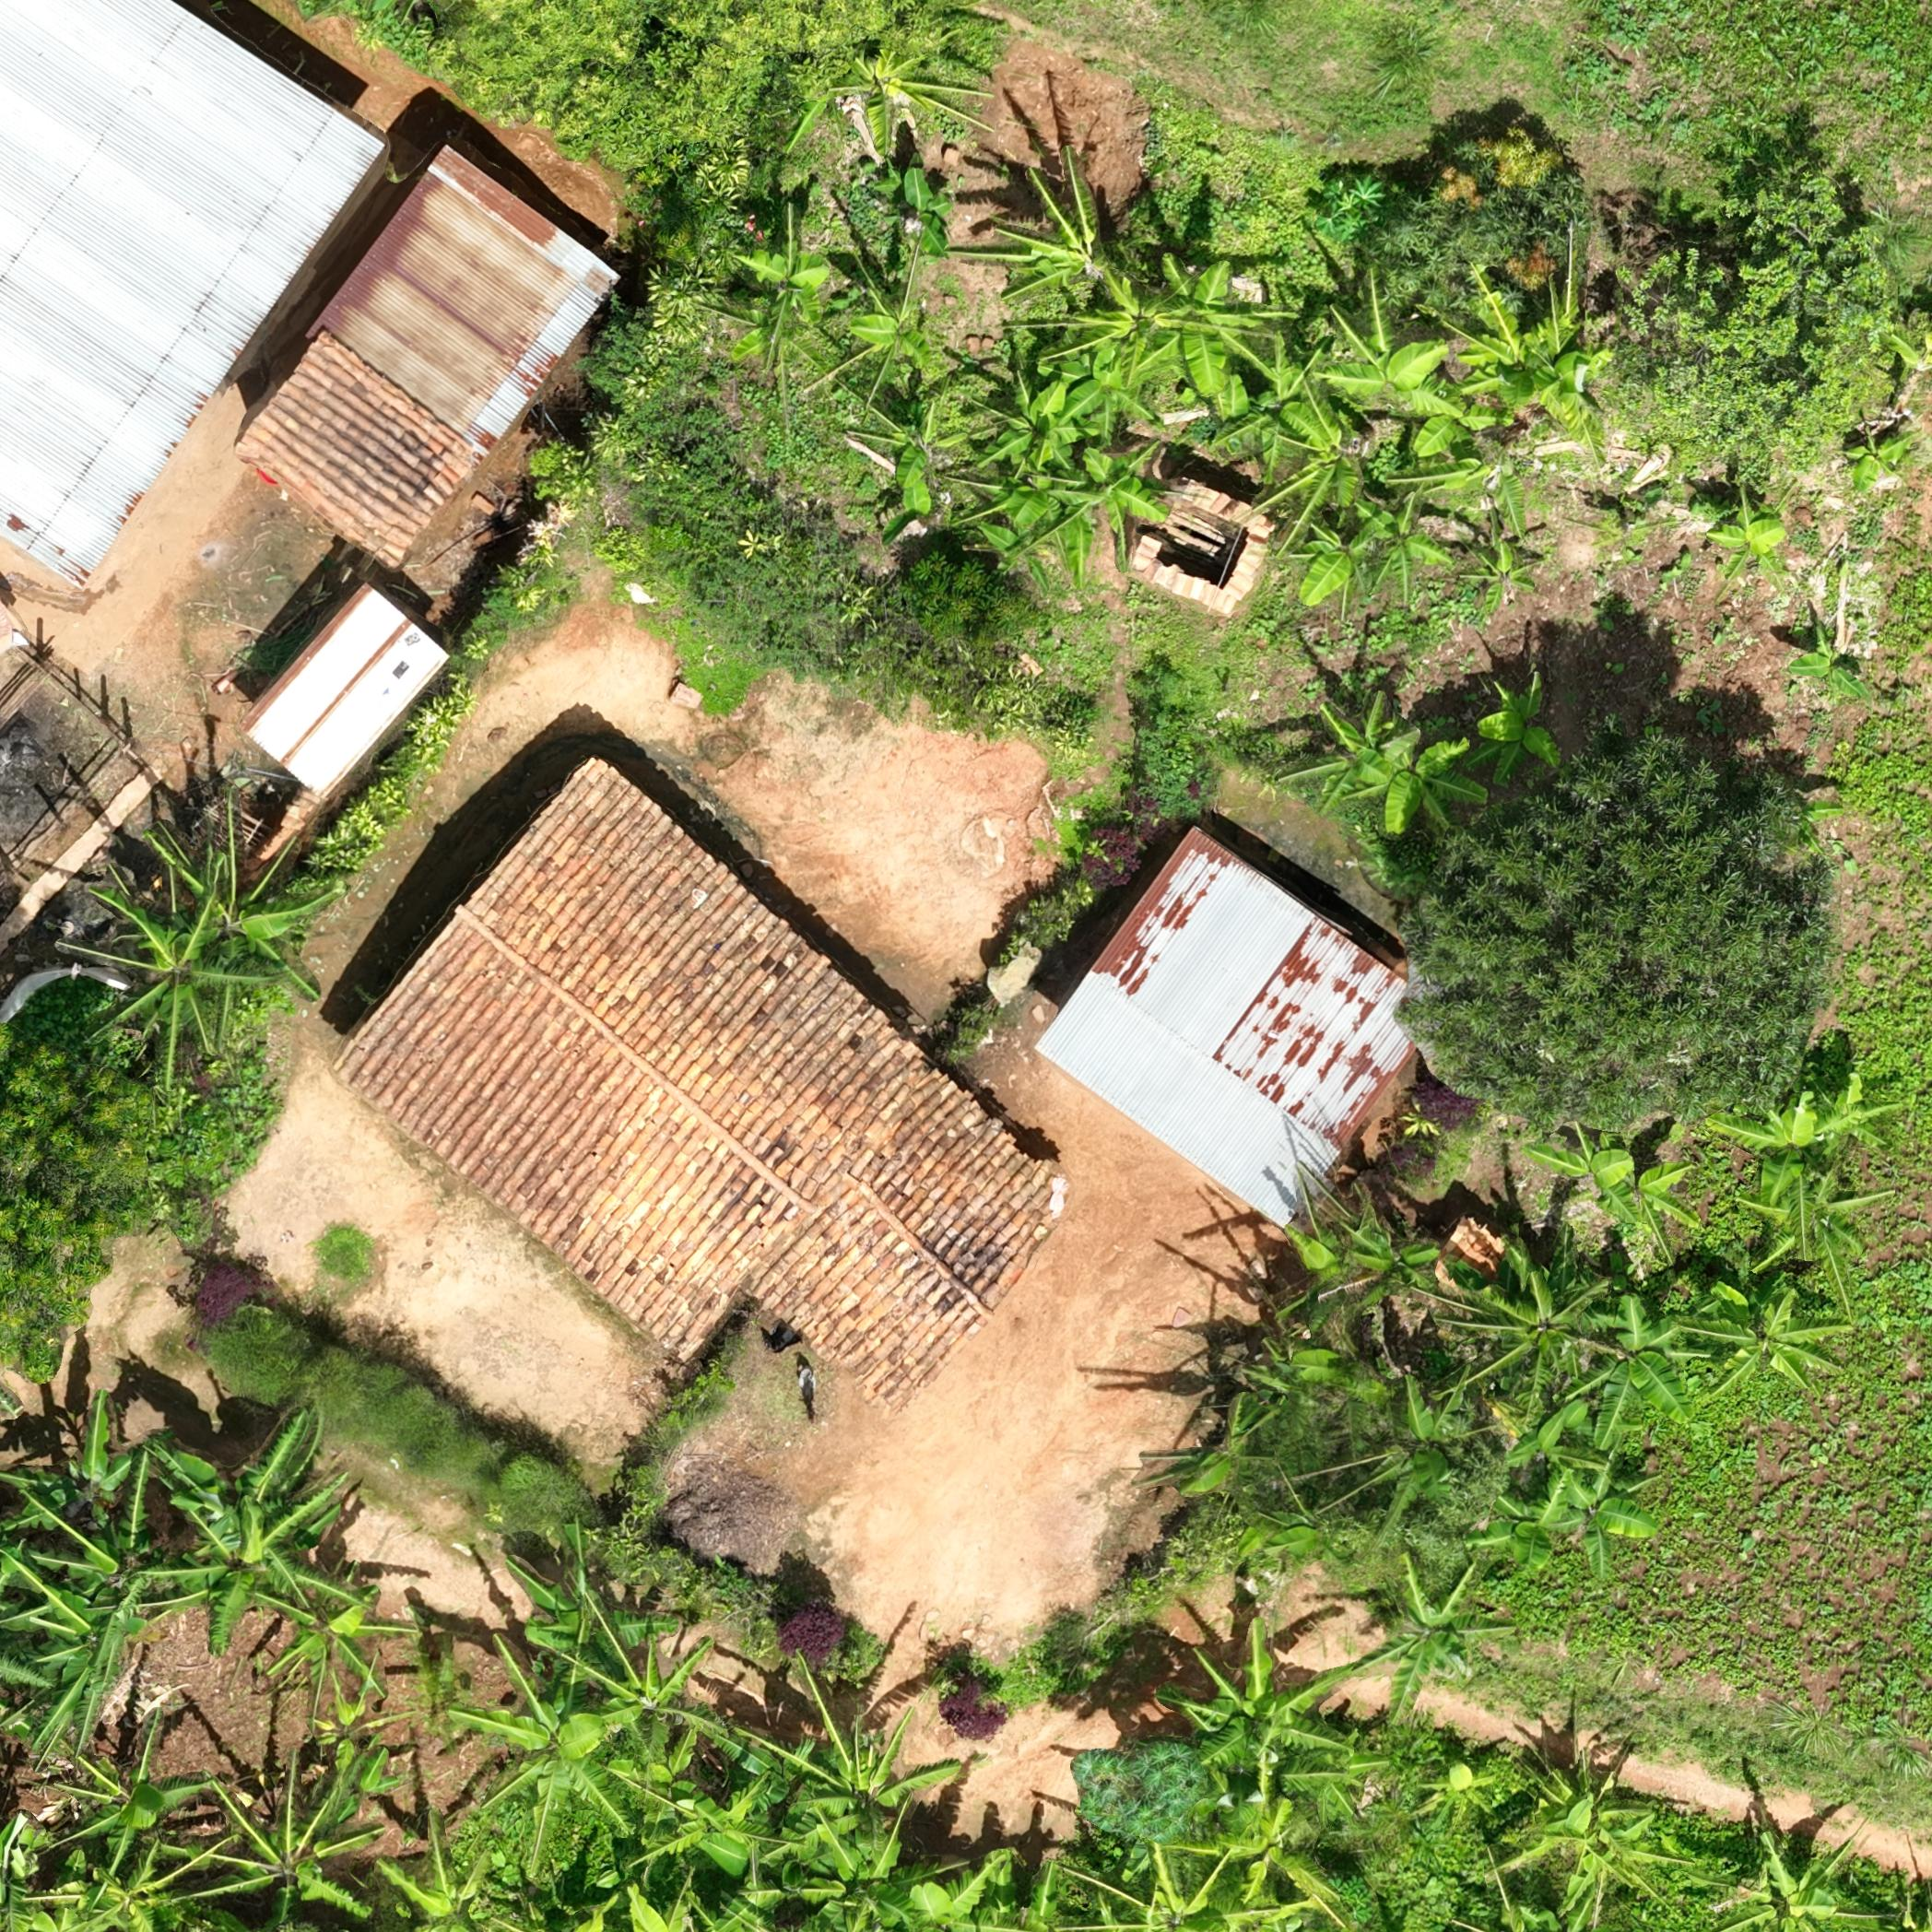Banana: (74, 870, 274, 1088), (462, 1635, 635, 1874), (156, 794, 324, 1017), (1166, 1617, 1380, 1785), (791, 1649, 962, 1821), (1460, 267, 1606, 453), (1468, 1246, 1610, 1415), (165, 1500, 318, 1654), (1323, 248, 1456, 425), (1380, 1548, 1513, 1718), (163, 1417, 370, 1525), (805, 25, 970, 150), (1364, 1355, 1470, 1532), (1743, 1185, 1881, 1316), (1585, 1300, 1695, 1451), (623, 1775, 768, 1882), (1681, 1297, 1838, 1396), (11, 1601, 119, 1744), (1005, 145, 1102, 303), (594, 1644, 732, 1753), (58, 1748, 205, 1851), (1536, 1799, 1668, 1913), (1154, 249, 1258, 393), (267, 1578, 387, 1697), (1231, 343, 1334, 479), (1380, 456, 1539, 541), (1378, 734, 1493, 847), (1559, 1460, 1663, 1582), (734, 230, 828, 356), (58, 1392, 136, 1536), (874, 405, 962, 531), (1069, 448, 1159, 570), (1224, 1794, 1330, 1897), (862, 150, 952, 271), (1159, 1405, 1265, 1506), (12, 1488, 108, 1599), (1481, 676, 1575, 789), (520, 1522, 603, 1649), (1520, 1136, 1633, 1228), (803, 1838, 918, 1927), (977, 467, 1067, 575), (1709, 1109, 1821, 1196), (1315, 694, 1391, 814), (1476, 1488, 1573, 1582), (1086, 276, 1166, 387), (1736, 1842, 1840, 1923), (1619, 1162, 1704, 1261), (731, 1736, 824, 1821), (846, 303, 941, 384), (1150, 1851, 1246, 1930), (922, 1868, 1033, 1928), (1012, 377, 1079, 474), (1247, 1318, 1327, 1399), (1704, 502, 1785, 580), (1813, 1085, 1900, 1154), (619, 1890, 766, 1930), (1805, 619, 1868, 704), (1513, 1422, 1617, 1474), (1415, 1760, 1500, 1822), (1359, 1230, 1437, 1297), (448, 1870, 538, 1925), (1529, 1762, 1622, 1792), (1849, 439, 1897, 490), (1028, 1872, 1062, 1930), (1297, 1237, 1336, 1277)
